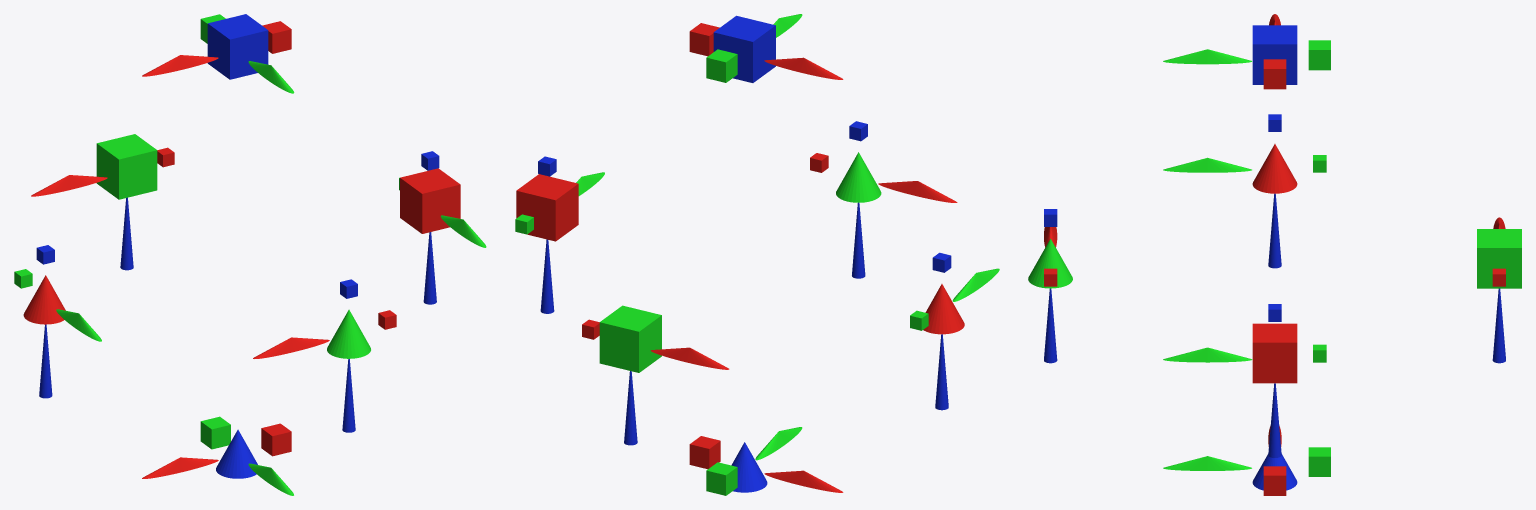
Rendered from axis_coloured_blocks_cutout_norot.gltf.
The picture shows the model from 3 angles, left to right: view 1: azimuth 30°, elevation 25°; view 2: azimuth 150°, elevation 25°; view 3: azimuth 270°, elevation 25°; orthographic projection. The views are drawn at different scales.
Visible parts, largest first — view 1: CubeY, Cube, CubeX, Cone.001, Cone.003, Cone.002, CubeX.004, CubeY.004, Cone.005, Cone.009, Cone, Cone.013 (+9 smaller); view 2: CubeY, CubeX, Cube, Cone.001, Cone.003, Cone.002, CubeY.004, CubeY.001, CubeX.004, Cone.013, Cone.005, Cone.009 (+8 smaller); view 3: CubeX, CubeY, Cube, Cone.003, Cone.001, Cone.011, Cone.004, Cone.008, Cone.014, CubeX.002, CubeX.004, CubeY.001 (+6 smaller).
Boxes of the visible parts, x1=… form: CubeY: x1=96, y1=134, x2=157, y2=199; Cube: x1=207, y1=14, x2=268, y2=79; CubeX: x1=400, y1=168, x2=460, y2=233; Cone.001: x1=327, y1=309, x2=370, y2=358; Cone.003: x1=23, y1=275, x2=65, y2=324; Cone.002: x1=216, y1=429, x2=257, y2=478; CubeX.004: x1=261, y1=423, x2=291, y2=456; CubeY.004: x1=200, y1=416, x2=230, y2=449; Cone.005: x1=142, y1=55, x2=218, y2=76; Cone.009: x1=31, y1=175, x2=107, y2=196; Cone: x1=253, y1=337, x2=329, y2=358; Cone.013: x1=142, y1=457, x2=218, y2=478; CubeY: x1=599, y1=305, x2=661, y2=372; CubeX: x1=516, y1=174, x2=578, y2=241; Cube: x1=713, y1=15, x2=775, y2=82; Cone.001: x1=836, y1=152, x2=881, y2=202; Cone.003: x1=923, y1=284, x2=964, y2=334; Cone.002: x1=731, y1=442, x2=767, y2=492; CubeY.004: x1=706, y1=462, x2=737, y2=495; CubeY.001: x1=706, y1=49, x2=737, y2=82; CubeX.004: x1=689, y1=436, x2=720, y2=469; Cone.013: x1=764, y1=470, x2=843, y2=492; Cone.005: x1=764, y1=57, x2=843, y2=79; Cone.009: x1=650, y1=347, x2=729, y2=369; CubeX: x1=1252, y1=323, x2=1297, y2=383; CubeY: x1=1477, y1=229, x2=1521, y2=288; Cube: x1=1252, y1=25, x2=1297, y2=84; Cone.003: x1=1252, y1=144, x2=1297, y2=193; Cone.001: x1=1028, y1=239, x2=1072, y2=288; Cone.011: x1=1163, y1=347, x2=1252, y2=362; Cone.004: x1=1163, y1=49, x2=1251, y2=64; Cone.008: x1=1163, y1=157, x2=1251, y2=172; Cone.014: x1=1163, y1=456, x2=1251, y2=470; CubeX.002: x1=1263, y1=59, x2=1286, y2=89; CubeX.004: x1=1263, y1=466, x2=1286, y2=495; CubeY.001: x1=1308, y1=40, x2=1330, y2=70.
Bounding box in the file's own units: 22 × 22 × 22.
